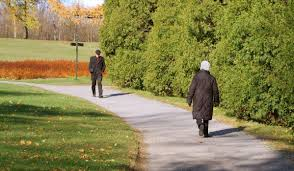Good: (89, 49, 217, 141)
